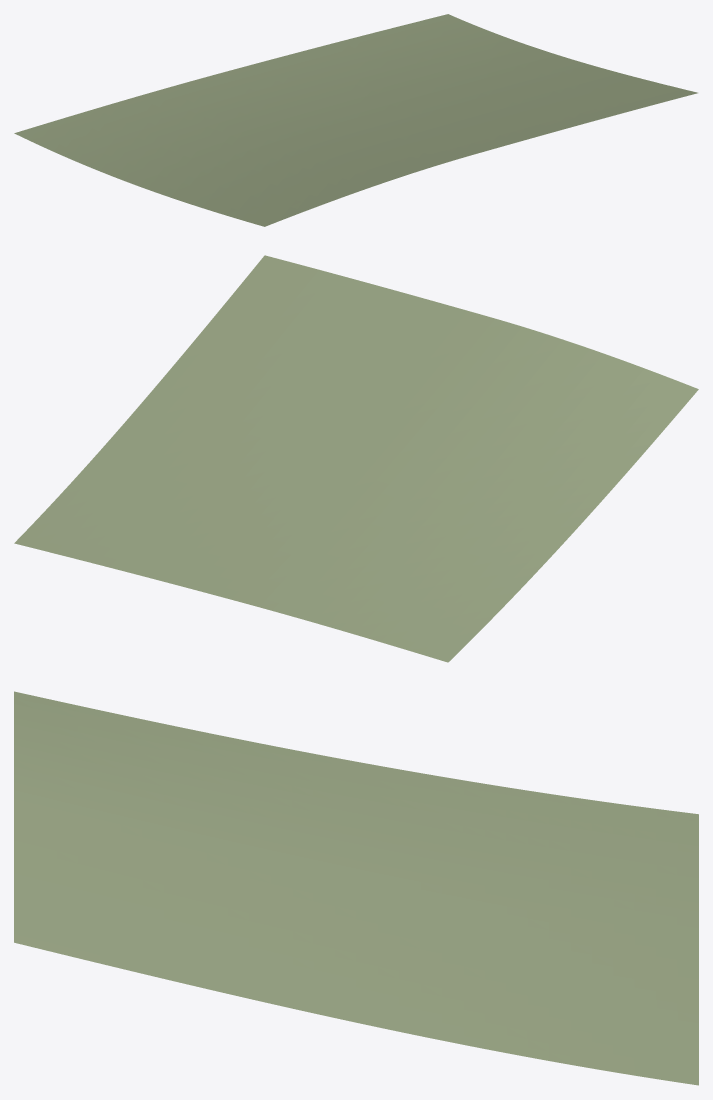
File: expanse-26-4.glb
3 renders of one model, top to bottom at view 1: azimuth 30°, elevation 25°; view 2: azimuth 150°, elevation 25°; view 3: azimuth 270°, elevation 25°, orthographic. The views are drawn at different scales.
Parts seen in each view (by area): view 1: expanse-26-4; view 2: expanse-26-4; view 3: expanse-26-4.
Part boxes in pixels (left/top/right/bottom): expanse-26-4: left=14, top=14, right=697, bottom=226; expanse-26-4: left=14, top=255, right=698, bottom=662; expanse-26-4: left=14, top=691, right=698, bottom=1085.
Bounding box in the file's own units: 256 × 66.42 × 256.
